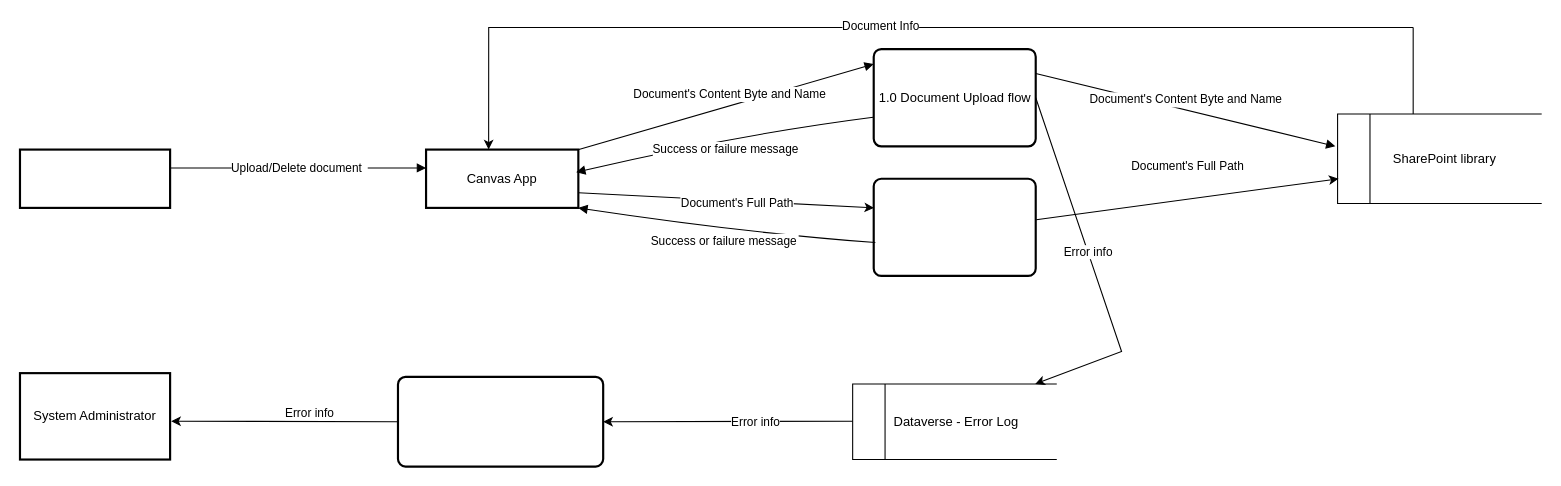
The diagram is 1561 pixels wide and 486 high, and some of its shapes have lost their labels. The box of each missing label's shape, as (x1, y1, x2, y2) in pixels:
2.0 Document Delete flow: (872, 177, 1036, 276)
3.0 System Admin review Solution UI: (396, 375, 604, 467)
FOI Officer: (18, 148, 171, 208)
